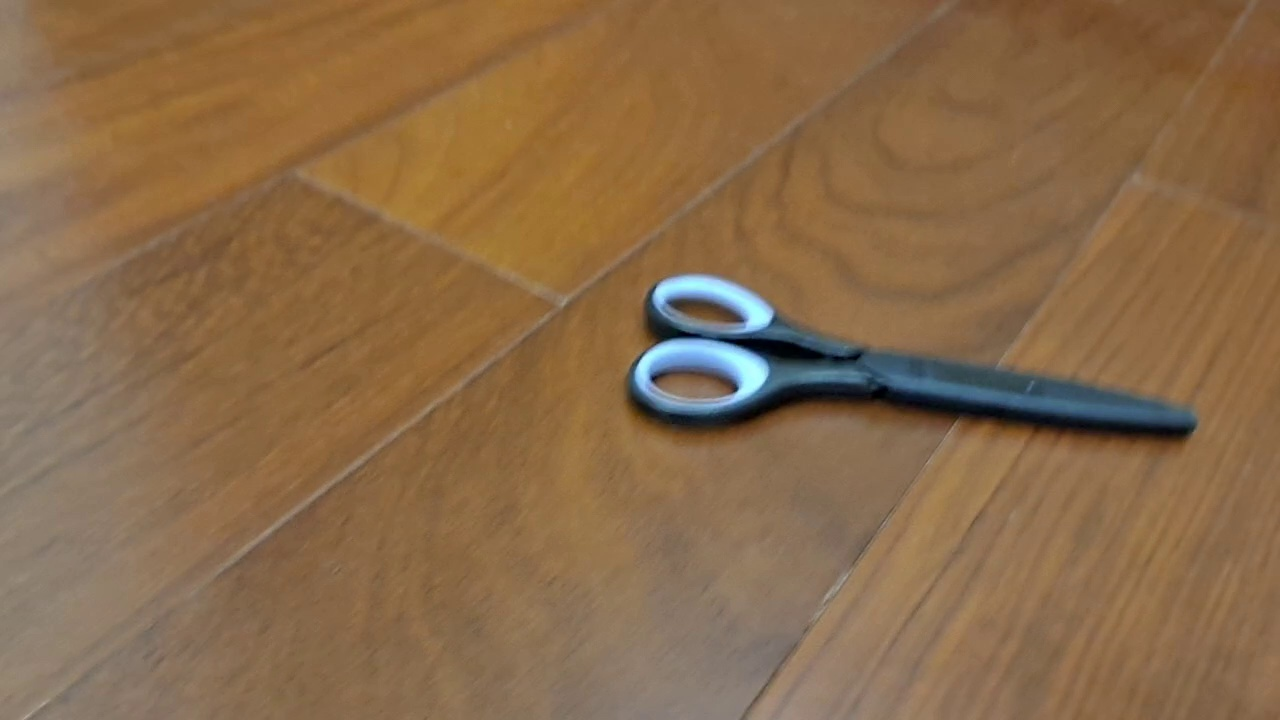scissors: (625, 272, 1199, 441)
